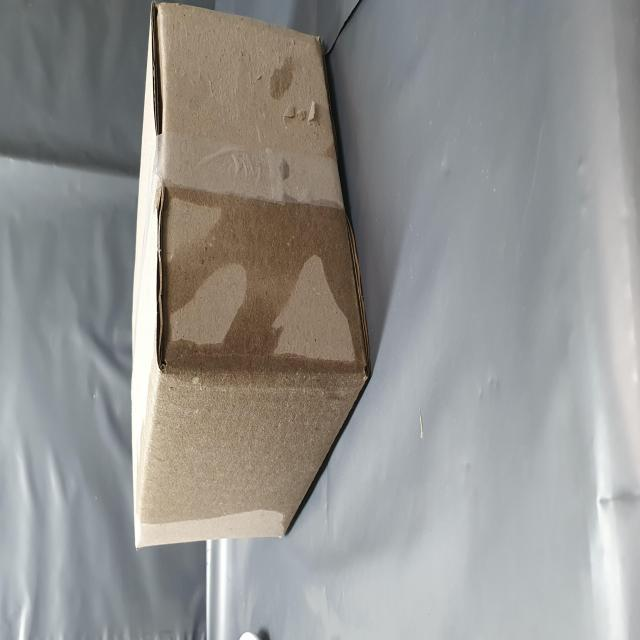wet: (62, 251, 248, 640)
